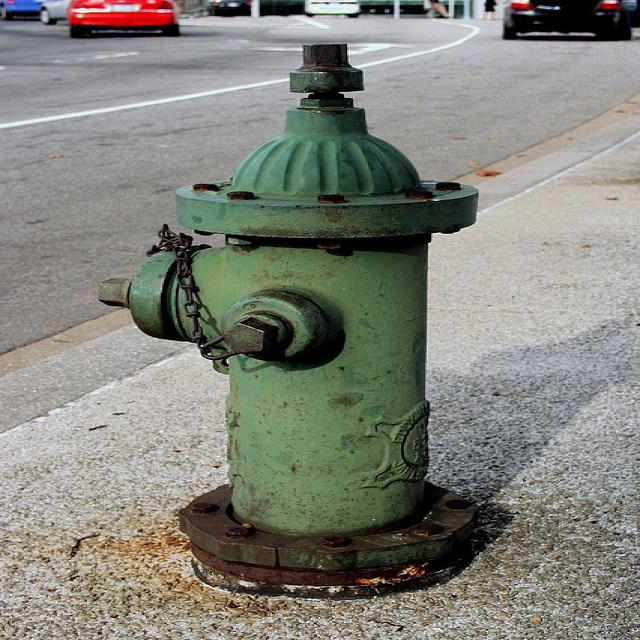fire_hydrant: (98, 40, 504, 603)
